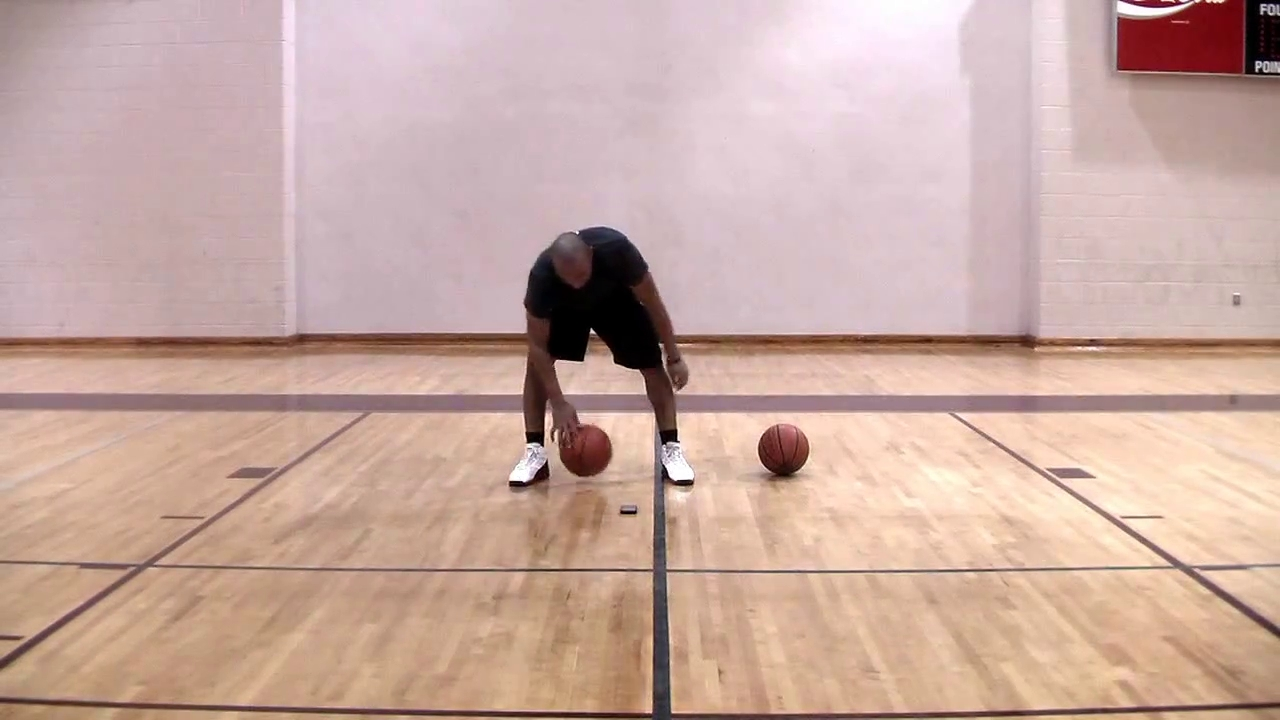person: (508, 227, 695, 488)
